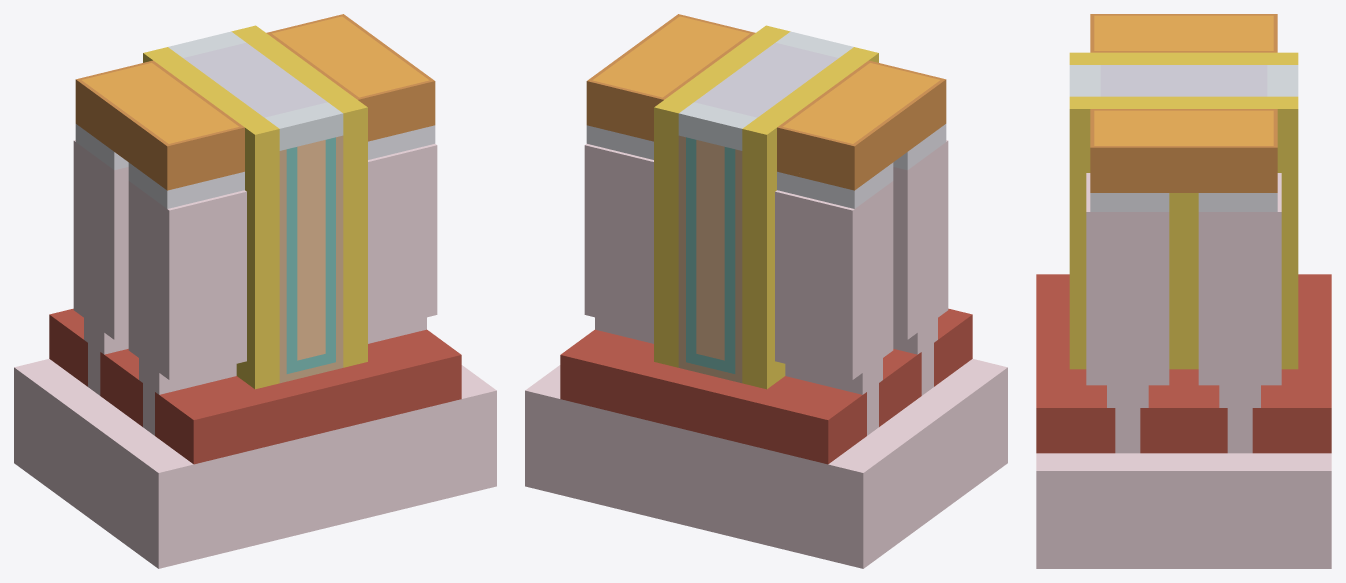
The model's file is fin.glb.
3 views of the same model, side by side, from view 1: azimuth 30°, elevation 25°; view 2: azimuth 150°, elevation 25°; view 3: azimuth 270°, elevation 25° (orthographic). The views are drawn at different scales.
Parts seen in each view (by area): view 1: substrate, epi_source, sti, epi_drain, spacer_source, spacer_drain, liner_source, mo, ni_source, ni_drain, floor_wf, gatew (+5 smaller); view 2: substrate, epi_source, sti, epi_drain, spacer_source, spacer_drain, liner_source, mo, ni_source, ni_drain, floor_wf, gatew (+5 smaller); view 3: substrate, epi_drain, sti, spacer_drain, liner_drain, ni_source, ni_drain, gatew, nisi_drain, spacer_source, gatecap, fin1 (+2 smaller).
Part boxes in pixels (<box>): substrate: <box>14,359,496,568</box>; epi_source: <box>73,140,246,394</box>; sti: <box>49,308,461,464</box>; epi_drain: <box>368,144,437,343</box>; spacer_source: <box>143,47,279,389</box>; spacer_drain: <box>231,25,367,367</box>; liner_source: <box>75,60,244,190</box>; mo: <box>297,140,325,360</box>; ni_source: <box>82,63,238,143</box>; ni_drain: <box>272,16,429,97</box>; floor_wf: <box>286,137,335,373</box>; gatew: <box>183,42,327,117</box>; substrate: <box>525,359,1007,568</box>; epi_source: <box>775,140,948,394</box>; sti: <box>560,308,972,464</box>; epi_drain: <box>584,144,653,343</box>; spacer_source: <box>742,47,878,389</box>; spacer_drain: <box>654,25,790,367</box>; liner_source: <box>777,60,946,190</box>; mo: <box>696,140,724,360</box>; ni_source: <box>783,63,939,143</box>; ni_drain: <box>592,16,749,97</box>; floor_wf: <box>686,137,735,373</box>; gatew: <box>694,42,838,117</box>; substrate: <box>1036,453,1331,568</box>; epi_drain: <box>1086,173,1281,407</box>; sti: <box>1036,274,1331,453</box>; spacer_drain: <box>1069,96,1298,369</box>; liner_drain: <box>1090,109,1277,192</box>; ni_source: <box>1094,15,1273,50</box>; ni_drain: <box>1094,110,1273,145</box>; gatew: <box>1100,65,1267,96</box>; nisi_drain: <box>1090,193,1277,211</box>; spacer_source: <box>1069,52,1298,64</box>; gatecap: <box>1069,65,1298,96</box>; fin1: <box>1227,408,1252,453</box>.
Size of the model in its own units: 96 by 107 by 71.
